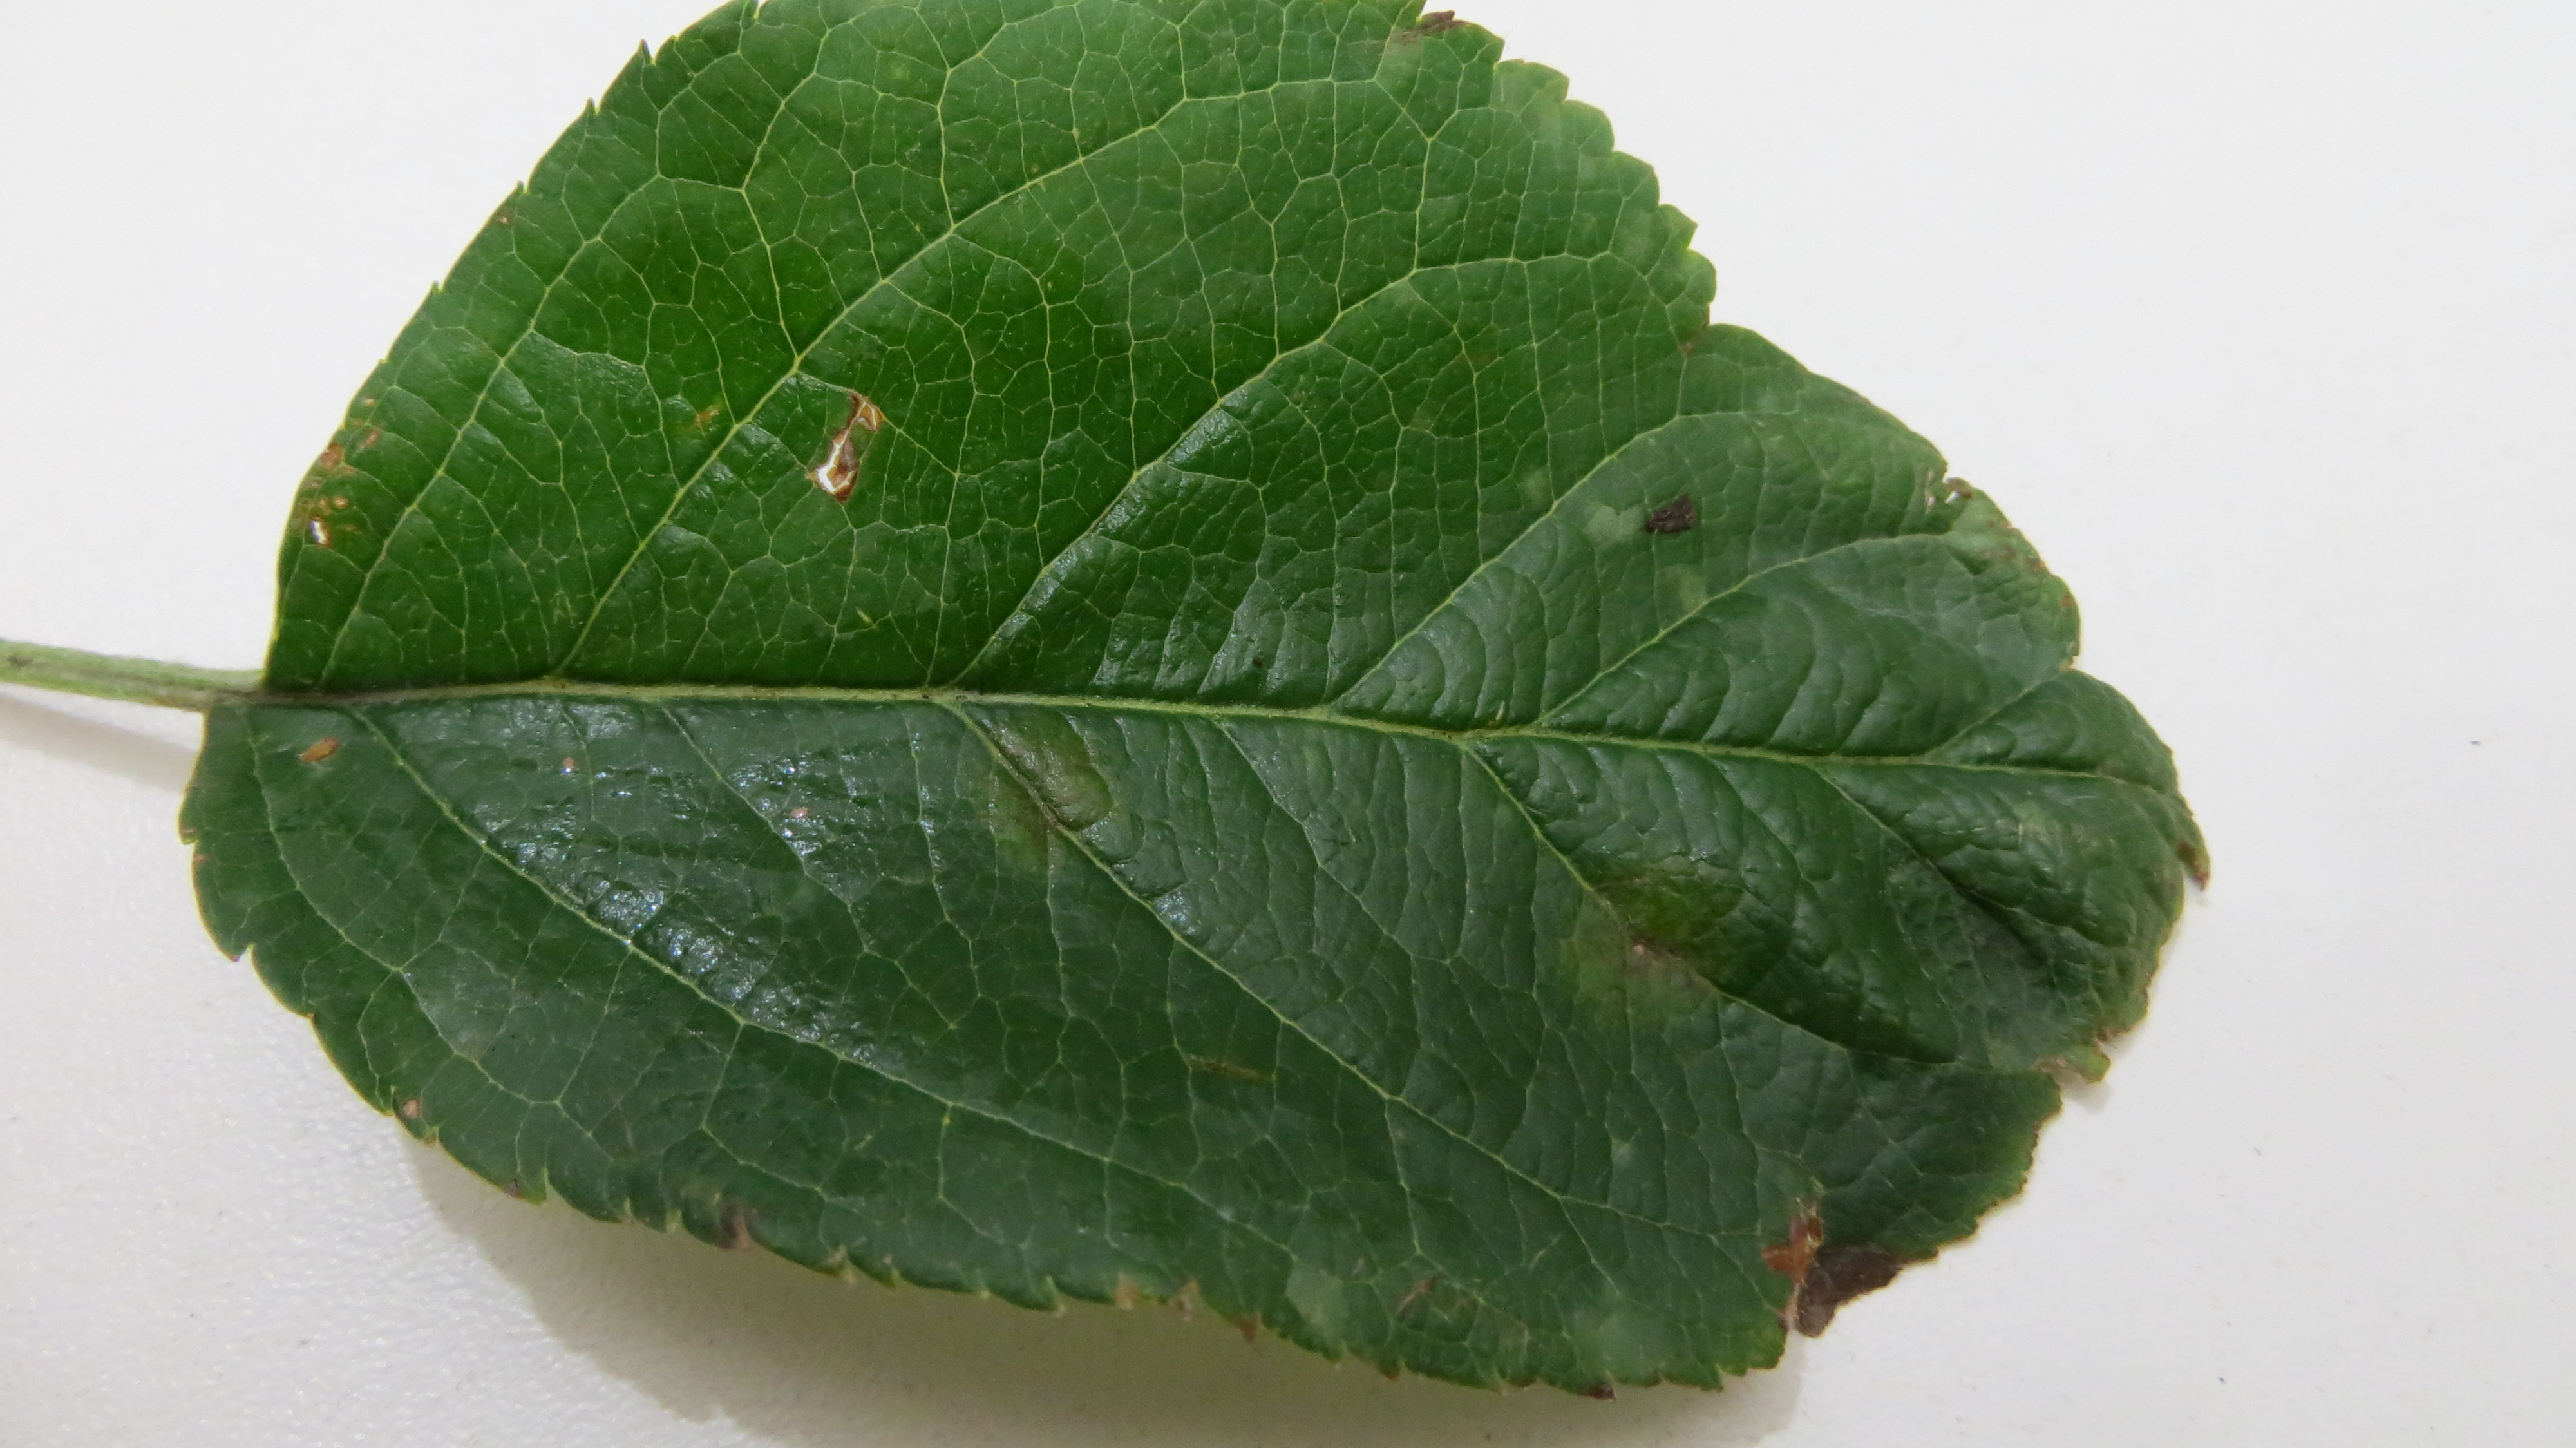sarna: (1560, 880, 1729, 1025), (985, 717, 1115, 871), (787, 375, 888, 499)
